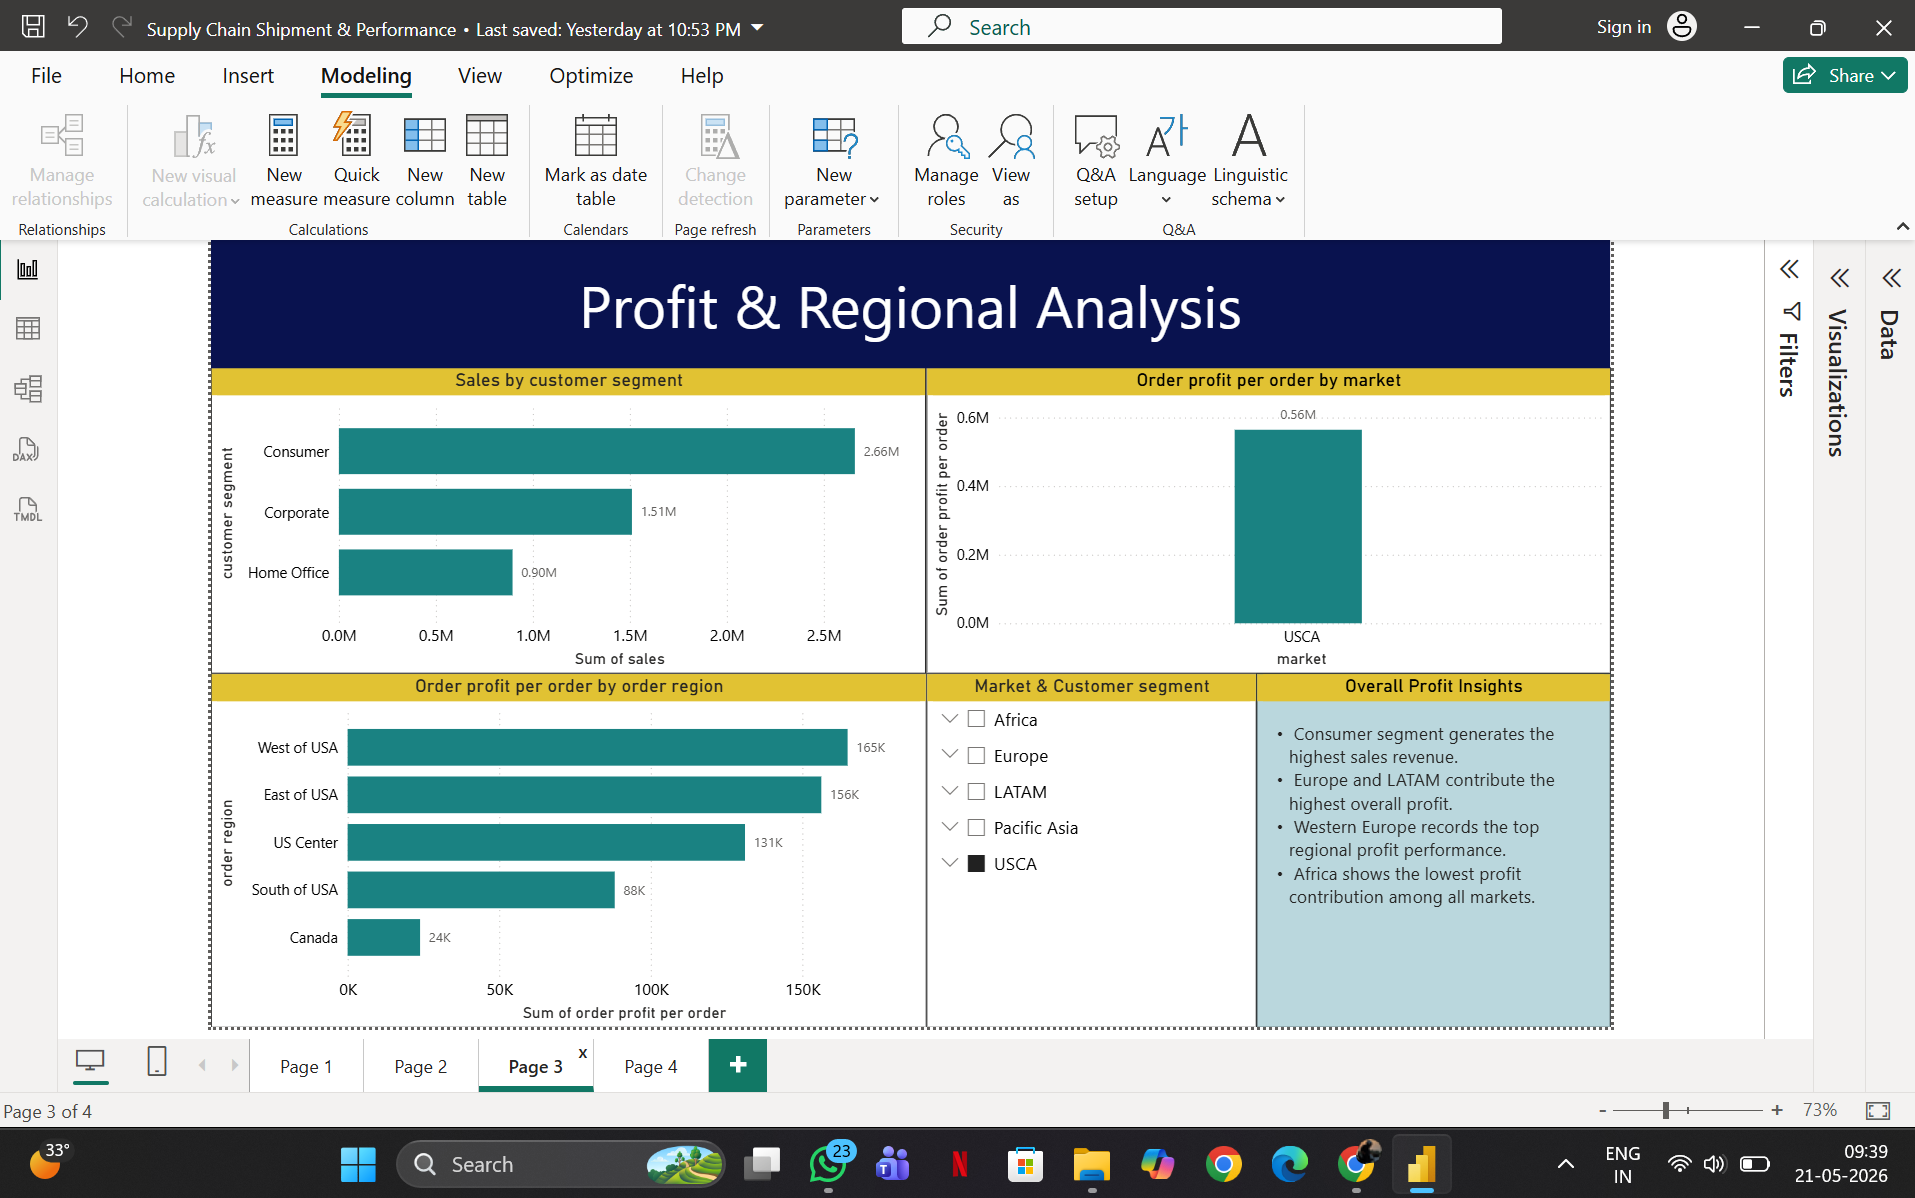

What the dashboard file says about the page in this screenshot:
{"tool":"powerbi","page":{"name":"Page 3","canvas":[1280,720],"ordinal":2},"visuals":[{"type":"clusteredBarChart","title":"Order profit per order by order region","fields":{"Y":["Sum(cleaned_supply_chain.order profit per order)"],"Category":["cleaned_supply_chain.order region"]},"box":[0,396.6,654.6,323.9],"z":0},{"type":"clusteredColumnChart","title":"Order profit per order by market","fields":{"Category":["cleaned_supply_chain.market"],"Y":["Sum(cleaned_supply_chain.order profit per order)"]},"box":[654.3,117.1,625.7,280],"z":1000},{"type":"clusteredBarChart","title":" Sales by customer segment","fields":{"Category":["cleaned_supply_chain.customer segment"],"Y":["Sum(cleaned_supply_chain.sales)"]},"box":[0,117.1,654.3,280],"z":2000},{"type":"slicer","title":"Market & Customer segment ","fields":{"Values":["cleaned_supply_chain.market","cleaned_supply_chain.customer segment"]},"box":[654.6,396.6,301.9,323.9],"z":3000},{"type":"textbox","box":[0,0,1280,117.1],"z":4000},{"type":"textbox","title":"Overall Profit Insights","box":[956.5,396.6,323.9,323.9],"z":4001}]}

Visuals, with their boxes on the page's 1280x720 design canvas (x1, y1, x2, y2). These are canvas units, not pixel positions in the 1915x1198 screenshot, which may show the page scaled, cropped or inside an application window:
"Order profit per order by order region" clusteredBarChart: select_region(0, 397, 655, 720)
"Order profit per order by market" clusteredColumnChart: select_region(654, 117, 1280, 397)
" Sales by customer segment" clusteredBarChart: select_region(0, 117, 654, 397)
"Market & Customer segment " slicer: select_region(655, 397, 956, 720)
textbox: select_region(0, 0, 1280, 117)
"Overall Profit Insights" textbox: select_region(956, 397, 1280, 720)
